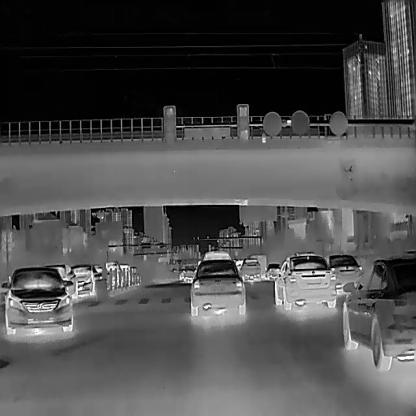car: (342, 255, 415, 372), (1, 266, 75, 334), (274, 252, 336, 309), (189, 261, 246, 315), (324, 253, 362, 291), (43, 263, 78, 301), (71, 262, 95, 295), (239, 257, 261, 281), (247, 253, 267, 278), (264, 262, 281, 280), (202, 249, 231, 259), (183, 265, 195, 281)
